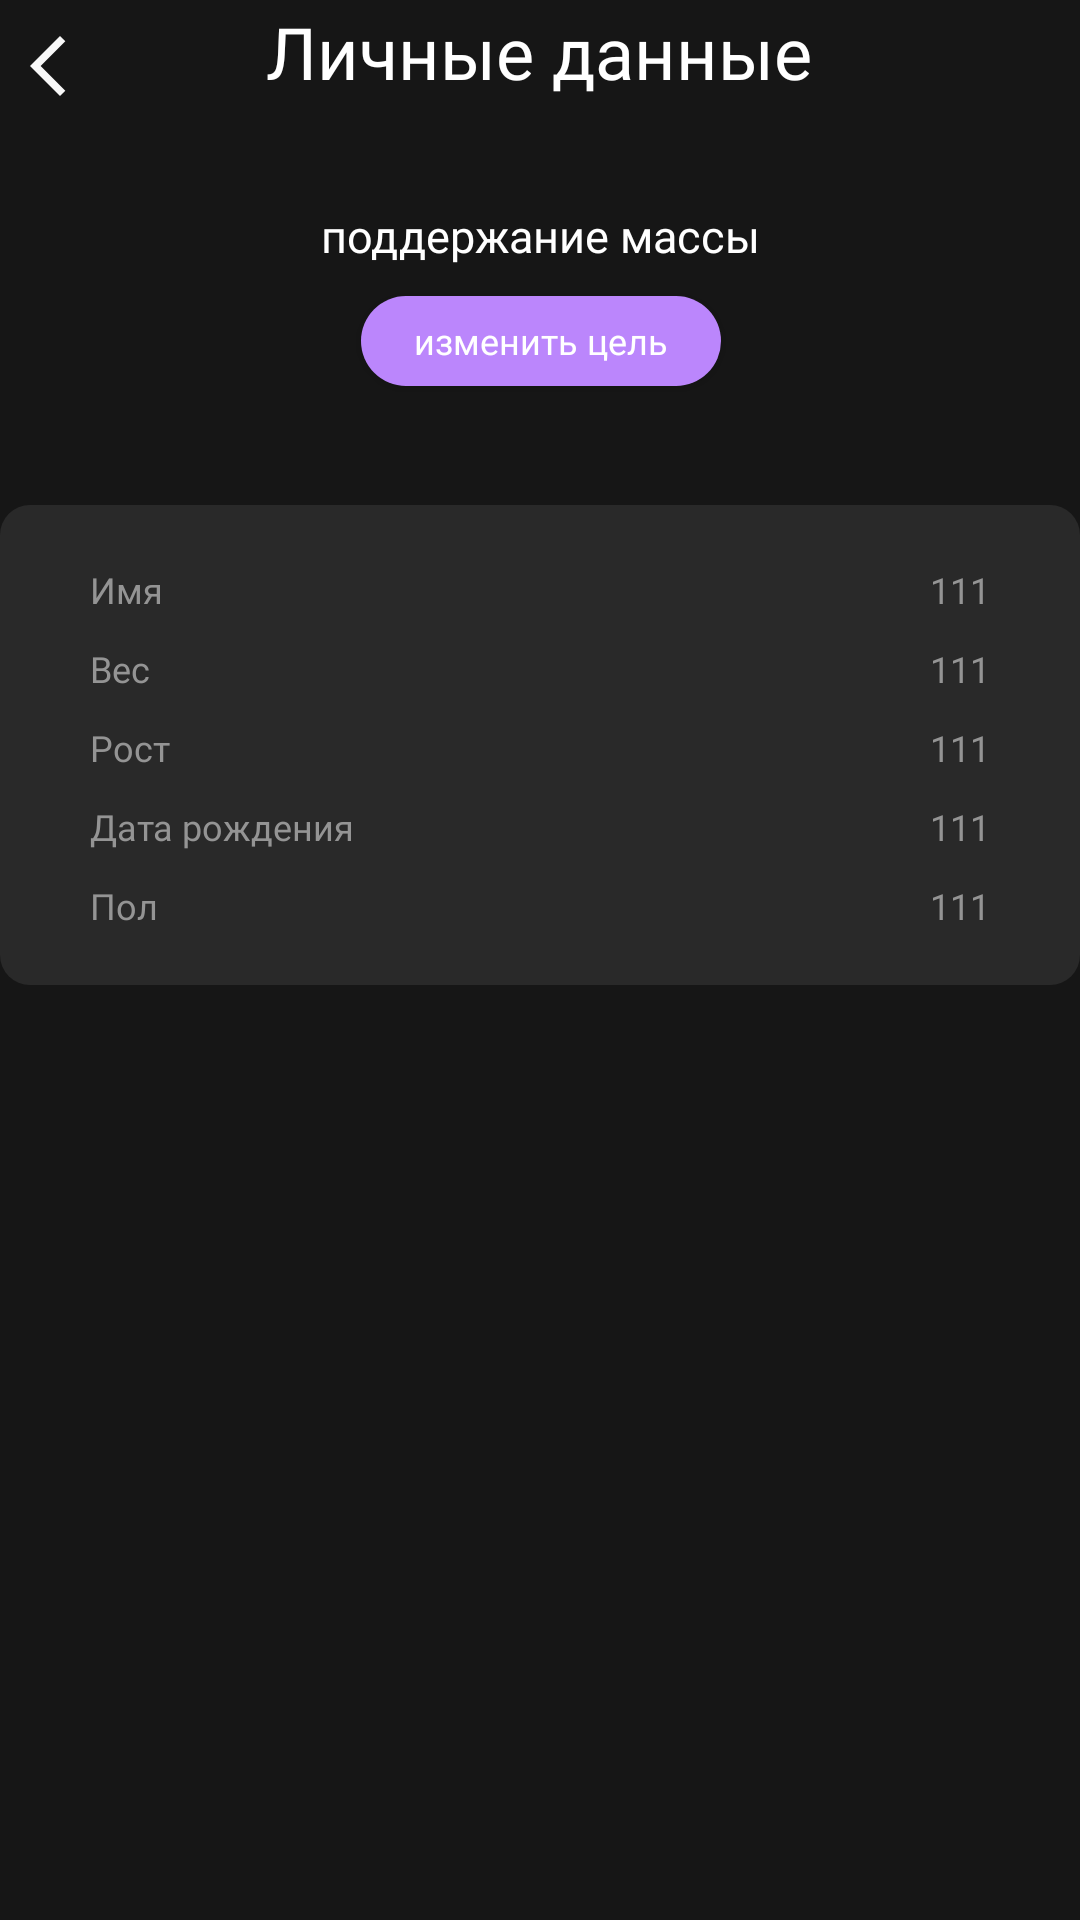

Screen size 1080×1920. Icon name, then its center in pixels as point (x, y):
back: point (47, 66)
